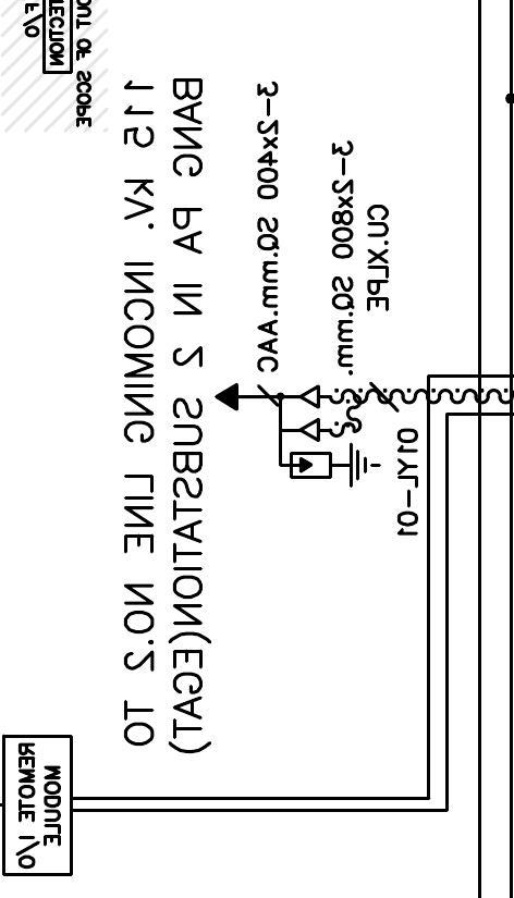115_la: (289, 442, 382, 488)
remote_io_module: (2, 734, 73, 877)
terminator_double: (278, 383, 321, 444)
